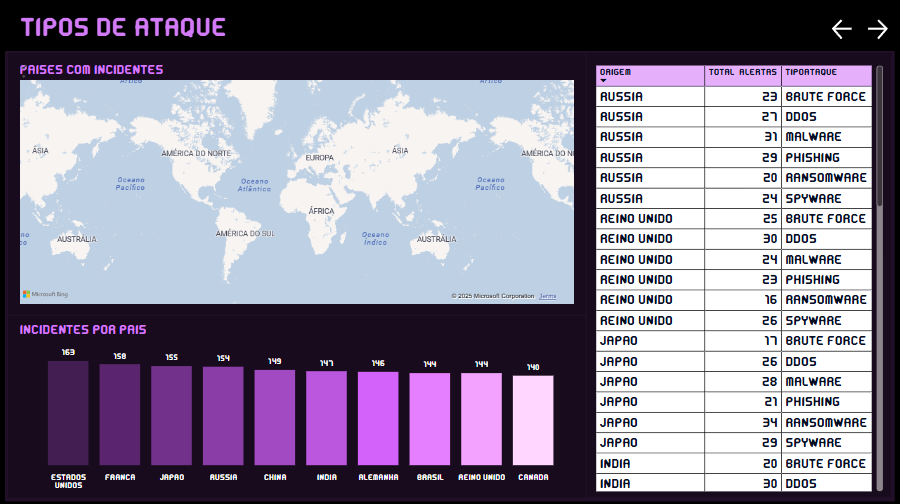

Layout of this report page (visuals, bound fields, positions):
{"tool":"powerbi","page":{"name":"Origem dos Ataques","canvas":[1280,720],"ordinal":2},"visuals":[{"type":"shape","title":"Fundo","box":[7,72,1266,641],"z":0},{"type":"shape","box":[11.5,75.7,822,372],"z":0,"group":"g3"},{"type":"shape","box":[835.5,75.7,433.1,632.3],"z":0,"group":"g2"},{"type":"shape","box":[11.5,449.3,822,258.7],"z":0,"group":"g1"},{"type":"tableEx","fields":{"Values":["D_Localizacoes.Origem","F_Incidentes.Total_Alertas","D_Tipoataque.TipoAtaque"]},"box":[842.8,88.3,419.4,615.6],"z":1000,"group":"g2"},{"type":"filledMap","title":"Paises com incidentes","fields":{"Category":["D_Localizacoes.Origem"]},"box":[23.3,88.7,799.3,350.3],"z":1000,"group":"g3"},{"type":"group","id":"g1","title":"Incidentes por pais","box":[11.5,449.3,822,258.7],"z":1000},{"type":"clusteredColumnChart","title":"Incidentes por pais","fields":{"Category":["D_Localizacoes.Origem"],"Y":["F_Incidentes.Total_Alertas"]},"box":[22.4,457.3,800.2,246.7],"z":1000,"group":"g1"},{"type":"group","id":"g2","title":"Tabela","box":[835.5,75.7,433.1,632.3],"z":2000},{"type":"group","id":"g3","title":"Paises com Insidentes","box":[11.5,75.7,822,372],"z":3000},{"type":"textbox","title":"Titulo","box":[24,13,437,59],"z":4000},{"type":"actionButton","box":[1179,23.3,38,38],"z":5000},{"type":"actionButton","box":[1229.9,23.3,38,38],"z":6000}]}

Visuals, with their boxes in screenshot pixels (x1, y1, x2, y2), scaled from the page's 1280x720 canvas onto the 900x504 screenshot:
"Fundo" shape: (left=5, top=50, right=895, bottom=499)
shape: (left=8, top=53, right=586, bottom=313)
shape: (left=587, top=53, right=892, bottom=496)
shape: (left=8, top=315, right=586, bottom=496)
tableEx - D_Localizacoes.Origem x F_Incidentes.Total_Alertas: (left=593, top=62, right=887, bottom=493)
"Paises com incidentes" filledMap: (left=16, top=62, right=578, bottom=307)
"Incidentes por pais" group: (left=8, top=315, right=586, bottom=496)
"Incidentes por pais" clusteredColumnChart: (left=16, top=320, right=578, bottom=493)
"Tabela" group: (left=587, top=53, right=892, bottom=496)
"Paises com Insidentes" group: (left=8, top=53, right=586, bottom=313)
"Titulo" textbox: (left=17, top=9, right=324, bottom=50)
actionButton: (left=829, top=16, right=856, bottom=43)
actionButton: (left=865, top=16, right=891, bottom=43)
